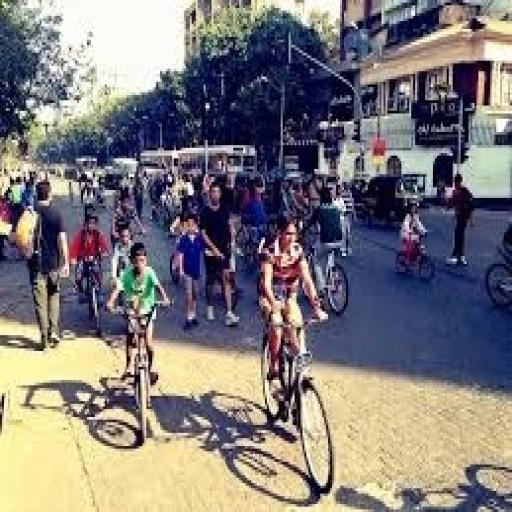cycling: (255, 214, 330, 420), (105, 240, 174, 388)
